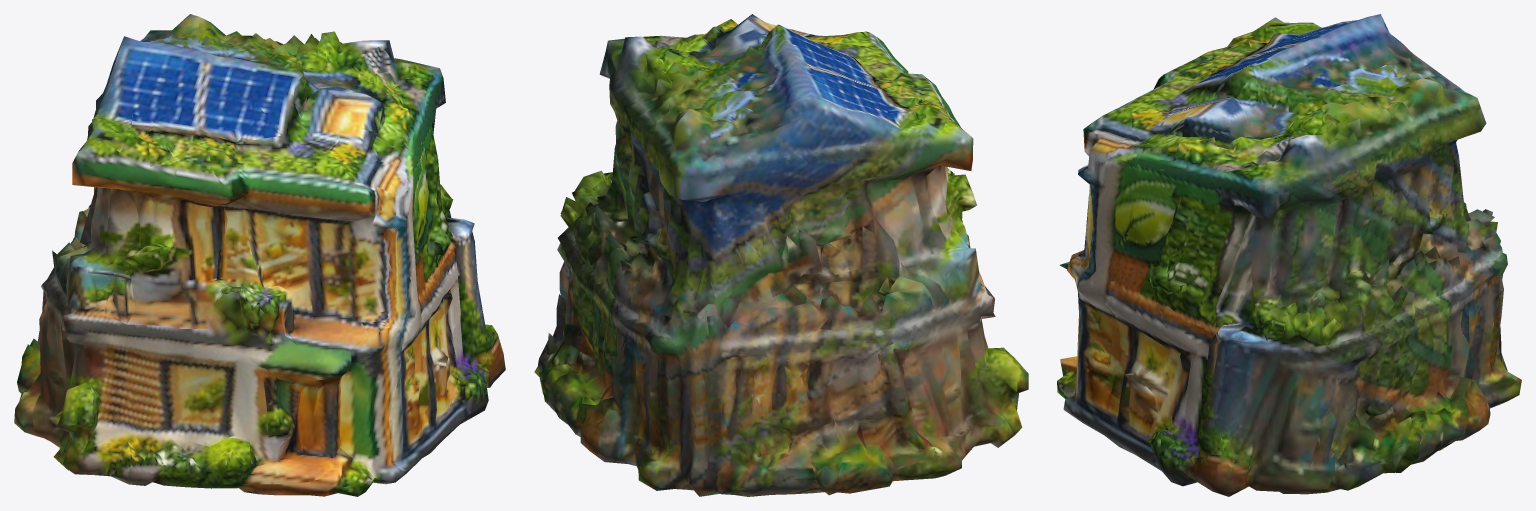
Rendered from efficiency_building.glb.
The picture shows the model from 3 angles, left to right: view 1: azimuth 30°, elevation 25°; view 2: azimuth 150°, elevation 25°; view 3: azimuth 270°, elevation 25°; orthographic projection. The views are drawn at different scales.
Visible parts, largest first — view 1: efficiency_building; view 2: efficiency_building; view 3: efficiency_building.
Part boxes in pixels (bbox=[...]): efficiency_building: bbox=[14, 14, 505, 496]; efficiency_building: bbox=[534, 14, 1028, 496]; efficiency_building: bbox=[1057, 14, 1521, 496].
Bounding box in the file's own units: 1.91 × 1.55 × 1.8.
Materials: 1 (1 with a texture image).
